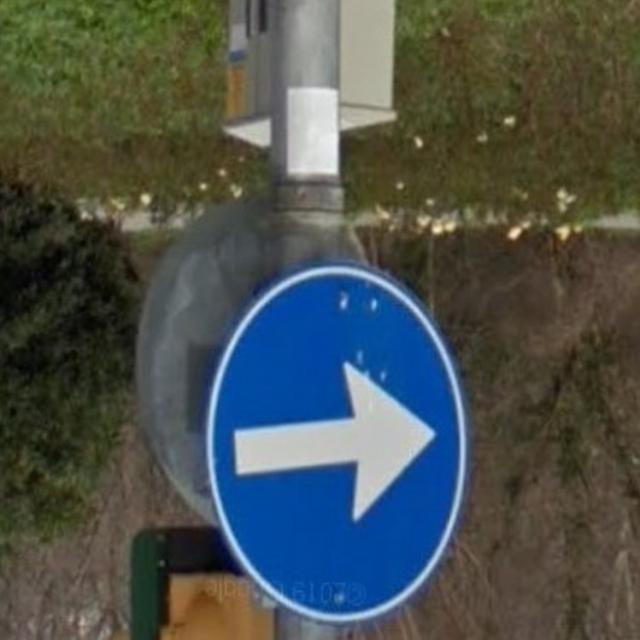Turn Right: (198, 256, 474, 632)
